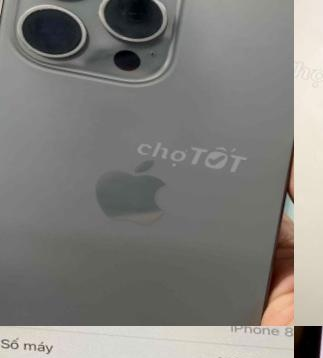scratch: (317, 76, 323, 153)
